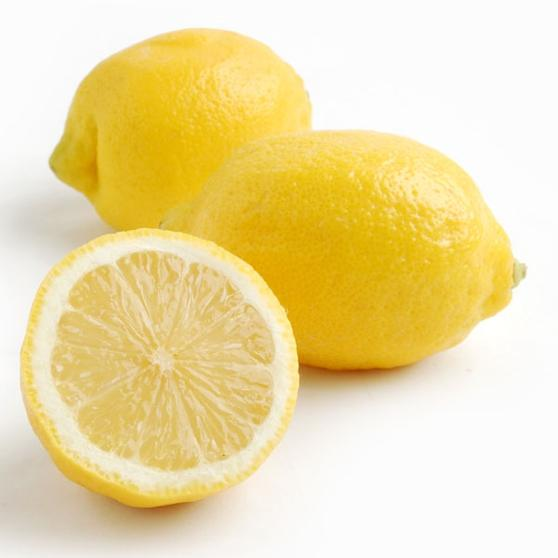lemon: (187, 120, 532, 379)
